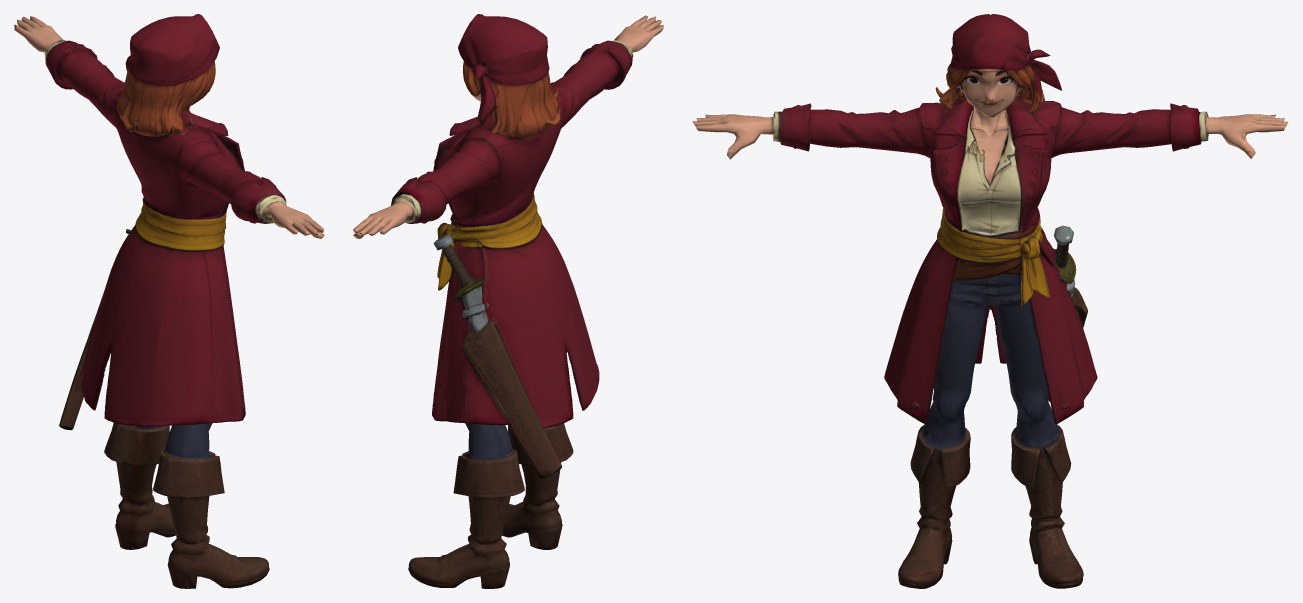
File: bonny.glb
3 views of the same model, side by side, from view 1: azimuth 30°, elevation 25°; view 2: azimuth 150°, elevation 25°; view 3: azimuth 270°, elevation 25° (orthographic).
Visible parts, largest first — view 1: tripo_node_f11b974d-b54c-428b-b15b-0061ba79cc8e; view 2: tripo_node_f11b974d-b54c-428b-b15b-0061ba79cc8e; view 3: tripo_node_f11b974d-b54c-428b-b15b-0061ba79cc8e.
Boxes of the visible parts, x1,y1,x2,y2 form: tripo_node_f11b974d-b54c-428b-b15b-0061ba79cc8e: (14, 14, 324, 588); tripo_node_f11b974d-b54c-428b-b15b-0061ba79cc8e: (353, 14, 663, 588); tripo_node_f11b974d-b54c-428b-b15b-0061ba79cc8e: (692, 14, 1288, 588).
Size of the model in its own units: 0.4814 by 1.75 by 1.73.
Materials: 1 (1 with a texture image).
